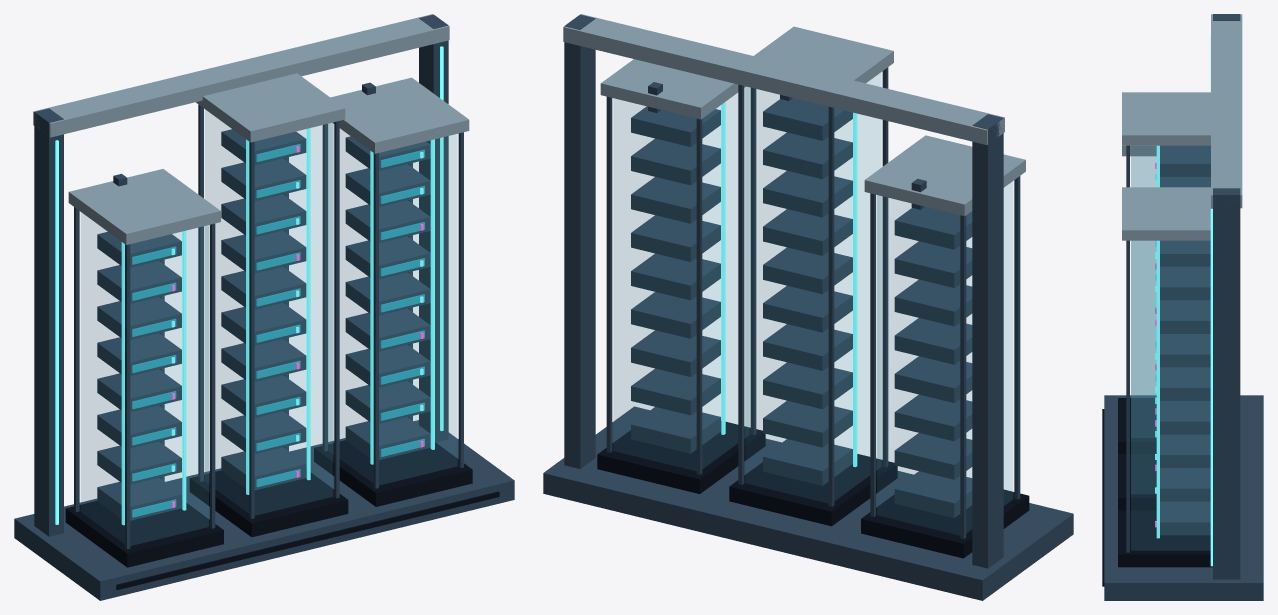
The model's file is archive.glb.
The picture shows the model from 3 angles, left to right: view 1: azimuth 30°, elevation 25°; view 2: azimuth 150°, elevation 25°; view 3: azimuth 270°, elevation 25°; orthographic projection. The views are drawn at different scales.
Parts seen in each view (by area): view 1: setpiece-archive-sz-archive-glass, setpiece-archive-sz-armor, setpiece-archive-sz-edge, setpiece-archive-sz-rubber, setpiece-archive-sz-mint, setpiece-archive-sz-screen; view 2: setpiece-archive-sz-armor, setpiece-archive-sz-archive-glass, setpiece-archive-sz-edge, setpiece-archive-sz-rubber, setpiece-archive-sz-mint; view 3: setpiece-archive-sz-armor, setpiece-archive-sz-archive-glass, setpiece-archive-sz-edge, setpiece-archive-sz-rubber, setpiece-archive-sz-mint.
Part boxes in pixels (x1,y1,x2,y2): setpiece-archive-sz-archive-glass: (81,110,457,545); setpiece-archive-sz-armor: (14,14,514,600); setpiece-archive-sz-edge: (33,14,469,244); setpiece-archive-sz-rubber: (65,440,499,589); setpiece-archive-sz-mint: (55,46,443,525); setpiece-archive-sz-screen: (132,144,424,517); setpiece-archive-sz-armor: (543,14,1073,600); setpiece-archive-sz-archive-glass: (613,73,1012,534); setpiece-archive-sz-edge: (563,14,1025,216); setpiece-archive-sz-rubber: (597,421,1029,558); setpiece-archive-sz-mint: (721,102,857,467); setpiece-archive-sz-armor: (1104,14,1263,600); setpiece-archive-sz-archive-glass: (1131,146,1210,550); setpiece-archive-sz-edge: (1122,14,1242,240); setpiece-archive-sz-rubber: (1102,398,1212,586); setpiece-archive-sz-mint: (1155,35,1212,566).
Bounding box in the file's own units: 7.8 × 7.8 × 2.83.
